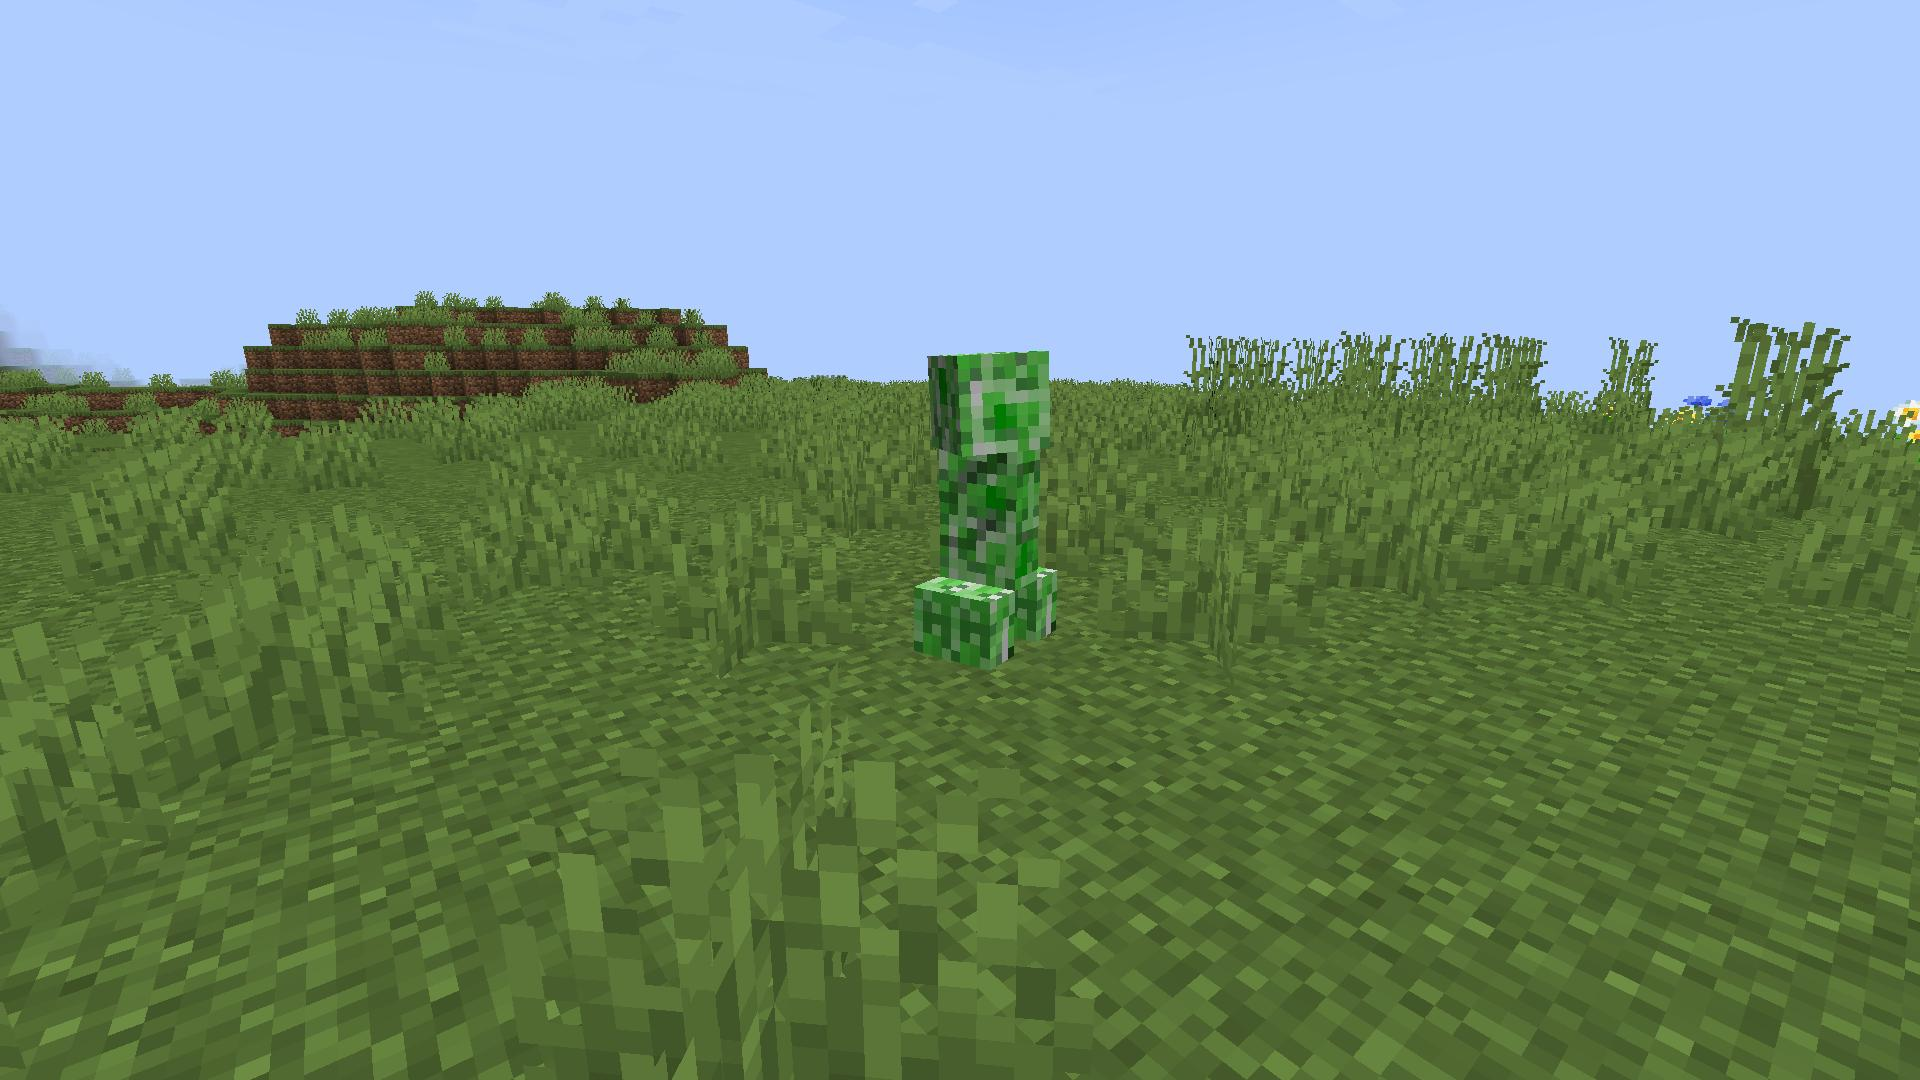creeper: (909, 339, 1067, 676)
